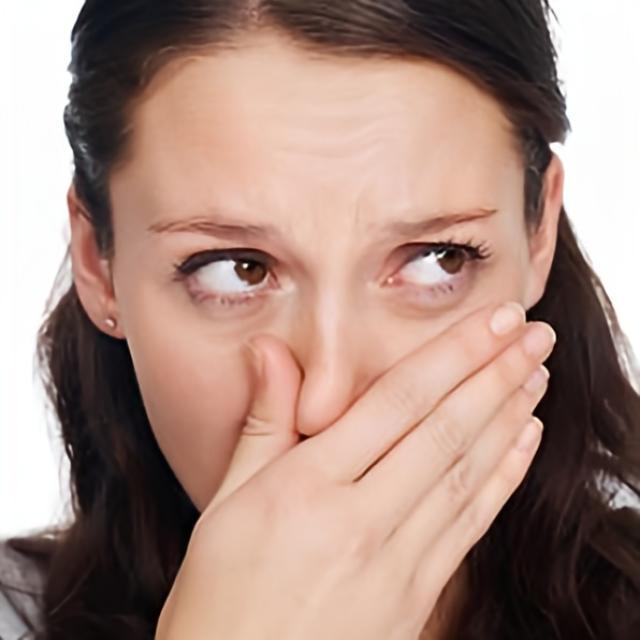disgust: (110, 21, 530, 597)
